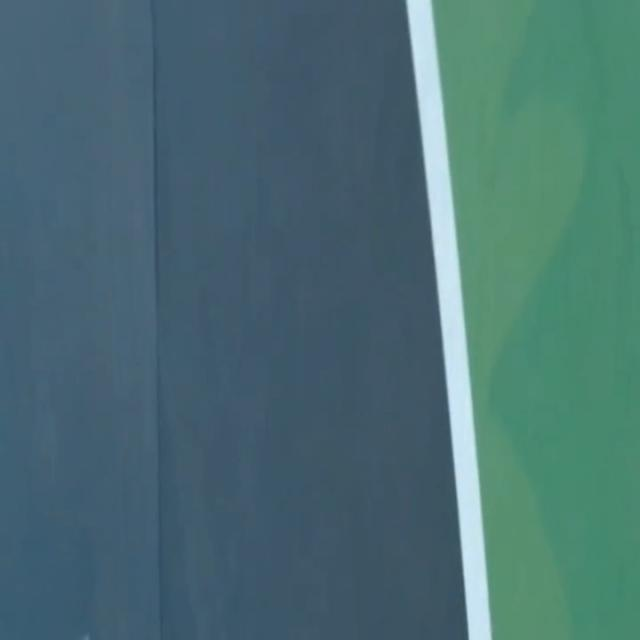right: (405, 0, 492, 639)
